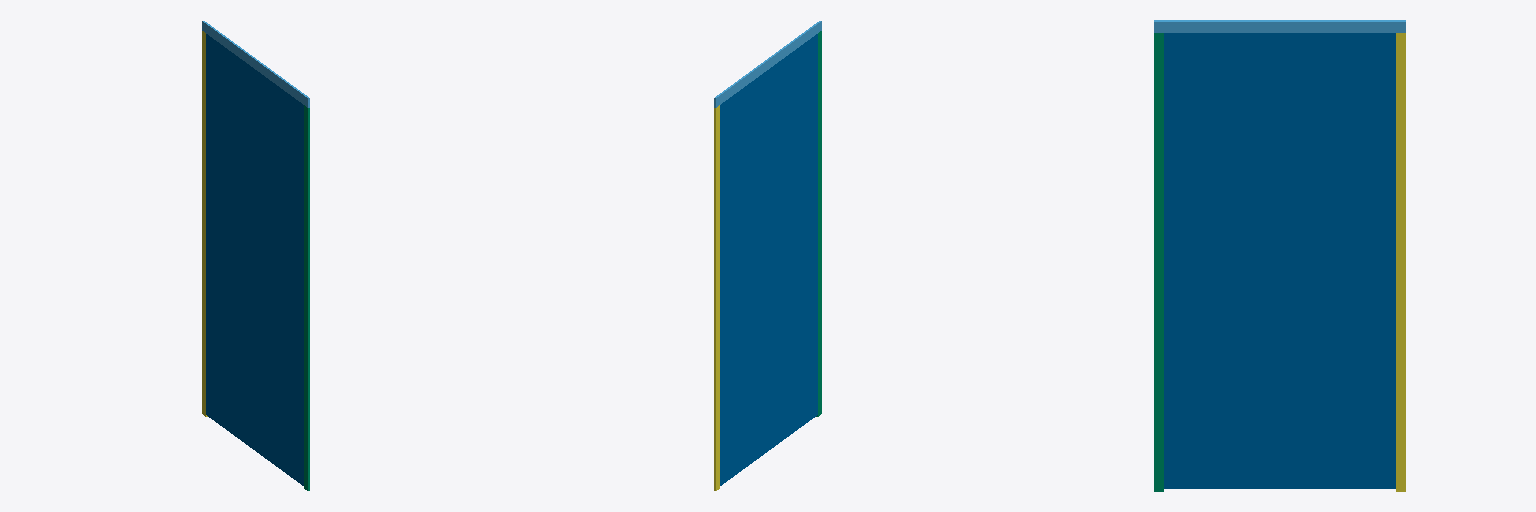
robot.urdf — room_door:
<?xml version="1.0" encoding="utf-8"?>
<!-- =================================================================================== -->
<!-- |    This document was autogenerated by xacro from src/rcprg/tiago_sim_hospital/urdf/door.urdf.xacro | -->
<!-- |    EDITING THIS FILE BY HAND IS NOT RECOMMENDED                                 | -->
<!-- =================================================================================== -->
<robot name="room_door">
  <link name="base_link"/>
  <joint name="fixed" type="fixed">
    <parent link="base_link"/>
    <child link="top_post"/>
    <origin xyz="0 0 2.025"/>
  </joint>
  <link name="top_post">
    <inertial>
      <mass value="1"/>
      <inertia ixx="1.0" ixy="0.0" ixz="0.0" iyy="1.0" iyz="0.0" izz="1.0"/>
    </inertial>
    <visual>
      <origin rpy="0 0 0" xyz="0 0 0"/>
      <geometry>
        <box size="0.01 1.0 0.05"/>
      </geometry>
    </visual>
    <collision>
      <origin rpy="0 0 0" xyz="0 0 0"/>
      <geometry>
        <box size="0.01 1.0 0.05"/>
      </geometry>
    </collision>
  </link>
  <gazebo reference="top_post">
    <material>Gazebo/Black</material>
  </gazebo>
  <link name="left_post">
    <inertial>
      <mass value="1000"/>
      <inertia ixx="1.0" ixy="0.0" ixz="0.0" iyy="1.0" iyz="0.0" izz="1.0"/>
    </inertial>
    <visual>
      <origin rpy="0 0 0" xyz="0 0 0"/>
      <geometry>
        <box size="0.01 0.04 2"/>
      </geometry>
    </visual>
    <collision>
      <origin rpy="0 0 0" xyz="0 0 0"/>
      <geometry>
        <box size="0.01 0.04 2"/>
      </geometry>
    </collision>
  </link>
  <gazebo reference="left_post">
    <material>Gazebo/Black</material>
  </gazebo>
  <joint name="left_post_to_base" type="fixed">
    <parent link="top_post"/>
    <child link="left_post"/>
    <origin xyz="0 -0.48 -1.025"/>
  </joint>
  <link name="right_post">
    <inertial>
      <mass value="1000"/>
      <inertia ixx="1.0" ixy="0.0" ixz="0.0" iyy="1.0" iyz="0.0" izz="1.0"/>
    </inertial>
    <visual>
      <origin rpy="0 0 0" xyz="0 0 0"/>
      <geometry>
        <box size="0.01 0.04 2"/>
      </geometry>
    </visual>
    <collision>
      <origin rpy="0 0 0" xyz="0 0 0"/>
      <geometry>
        <box size="0.01 0.04 2"/>
      </geometry>
    </collision>
  </link>
  <gazebo reference="right_post">
    <material>Gazebo/Black</material>
  </gazebo>
  <joint name="right_post_to_base" type="fixed">
    <parent link="top_post"/>
    <child link="right_post"/>
    <origin xyz="0 0.48 -1.025"/>
  </joint>
  <link name="door_front">
    <inertial>
      <mass value="1"/>
      <inertia ixx="1.0" ixy="0.0" ixz="0.0" iyy="1.0" iyz="0.0" izz="1.0"/>
    </inertial>
    <visual>
      <origin rpy="0 0 0" xyz="-0.005 -0.46 0.005"/>
      <geometry>
        <box size="0.01 0.92 1.99"/>
      </geometry>
    </visual>
    <collision>
      <origin rpy="0 0 0" xyz="-0.005 -0.46 0.005"/>
      <geometry>
        <box size="0.01 0.92 1.99"/>
      </geometry>
    </collision>
  </link>
  <gazebo reference="door_front">
    <material>Gazebo/Orange</material>
  </gazebo>
  <joint name="door_front_to_right_post" type="revolute">
    <parent link="right_post"/>
    <child link="door_front"/>
    <origin xyz="0.005 -0.02 0"/>
    <axis xyz="0 0 1"/>
    <limit effort="1000.0" lower="0" upper="3.14" velocity="100"/>
    <dynamics damping=".5"/>
  </joint>
  <!--   <gazebo>
    <plugin name="gazebo_ros_control" filename="libgazebo_ros_control.so">
      <robotNamespace>/</robotNamespace>
    </plugin>
  </gazebo> -->
</robot>

--- Facts derived from the render (not from the file) ---
The picture shows the robot from 3 angles, left to right: view 1: azimuth 30°, elevation 25°; view 2: azimuth 150°, elevation 25°; view 3: azimuth 270°, elevation 25°; orthographic projection.
Model room_door with 5 links and 4 joints (1 revolute, 3 fixed), rooted at base_link, posed every joint at zero.
Links seen in each view (by area): view 1: door_front, left_post, right_post, top_post; view 2: door_front, right_post, left_post, top_post; view 3: door_front, left_post, right_post, top_post.
Link boxes in pixels (x1,y1,x2,y2): door_front: (206,34,303,485); left_post: (304,105,309,490); right_post: (202,31,207,416); top_post: (202,21,309,107); door_front: (720,34,817,485); right_post: (714,105,719,490); left_post: (816,31,821,416); top_post: (714,21,821,107); door_front: (1164,33,1395,488); left_post: (1154,33,1163,491); right_post: (1396,33,1405,491); top_post: (1154,20,1405,32).
Size in the robot's own frame: 0.01 by 1 by 2.05 metres.
Geometry: primitives only (box / cylinder / sphere), no mesh files.
